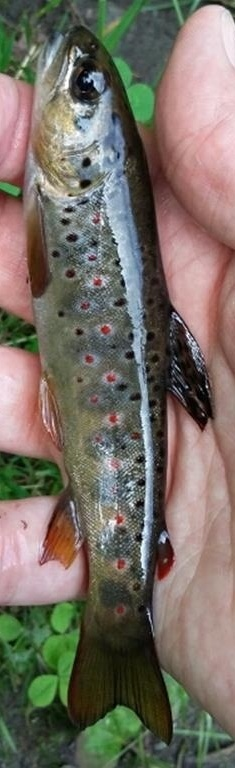Salmo trutta subsp. fario: (20, 20, 215, 748)
